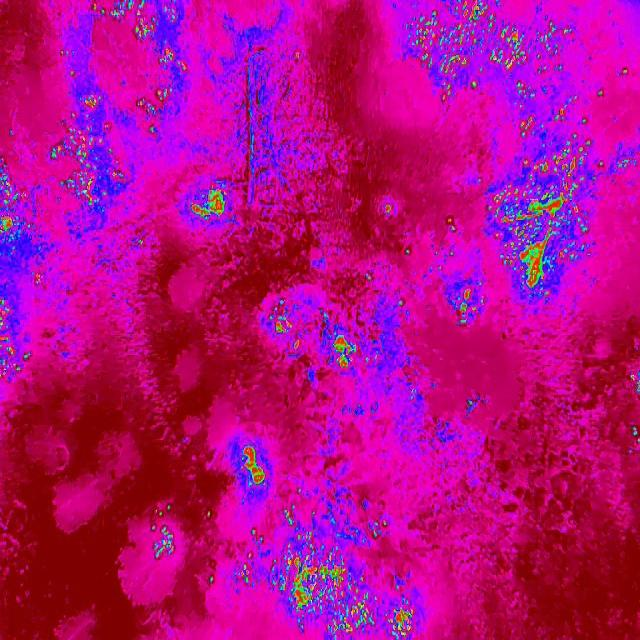fire: (194, 502, 419, 640), (487, 100, 605, 300), (404, 0, 586, 95), (49, 97, 121, 208), (372, 199, 463, 286), (134, 51, 192, 141), (98, 0, 180, 46), (0, 298, 29, 378), (187, 182, 236, 227), (0, 172, 30, 240), (238, 443, 270, 488), (145, 517, 176, 562), (327, 336, 361, 372), (270, 302, 292, 339), (458, 285, 477, 326)
